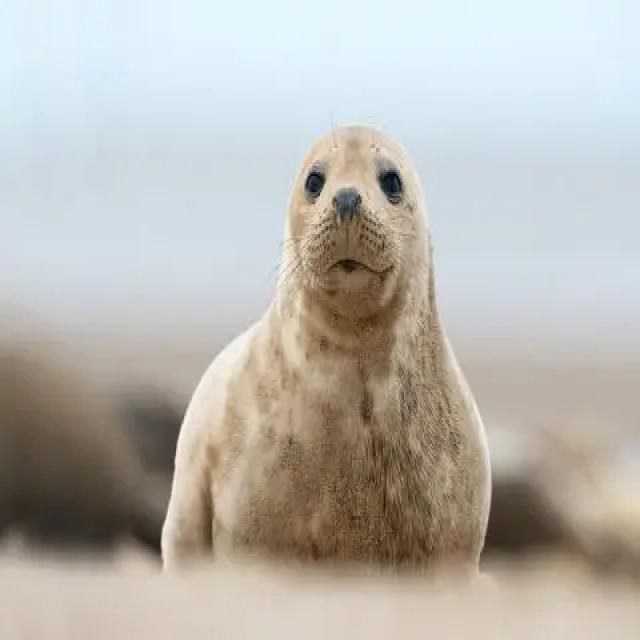WaterDog: (188, 118, 497, 576)
